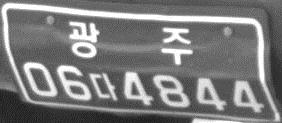0: (22, 61, 57, 97)
4: (231, 78, 263, 113), (195, 75, 226, 111), (122, 70, 152, 106)
6: (57, 65, 91, 101)
8: (154, 73, 190, 109)
광주_D: (68, 21, 192, 64)
다: (91, 70, 117, 101)
